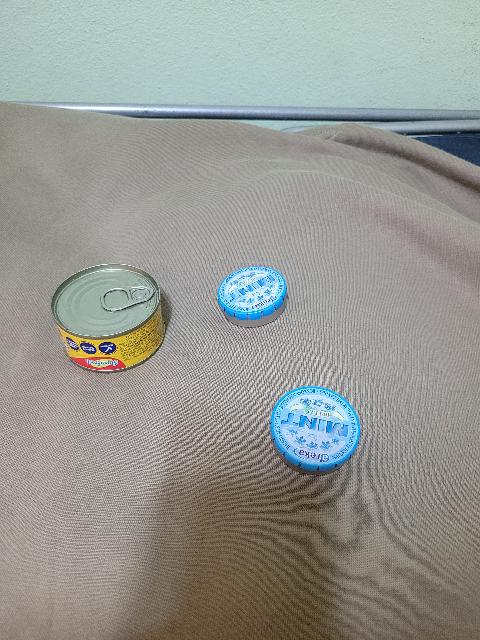Metal: (47, 262, 165, 375), (266, 384, 360, 477), (219, 267, 295, 328)
